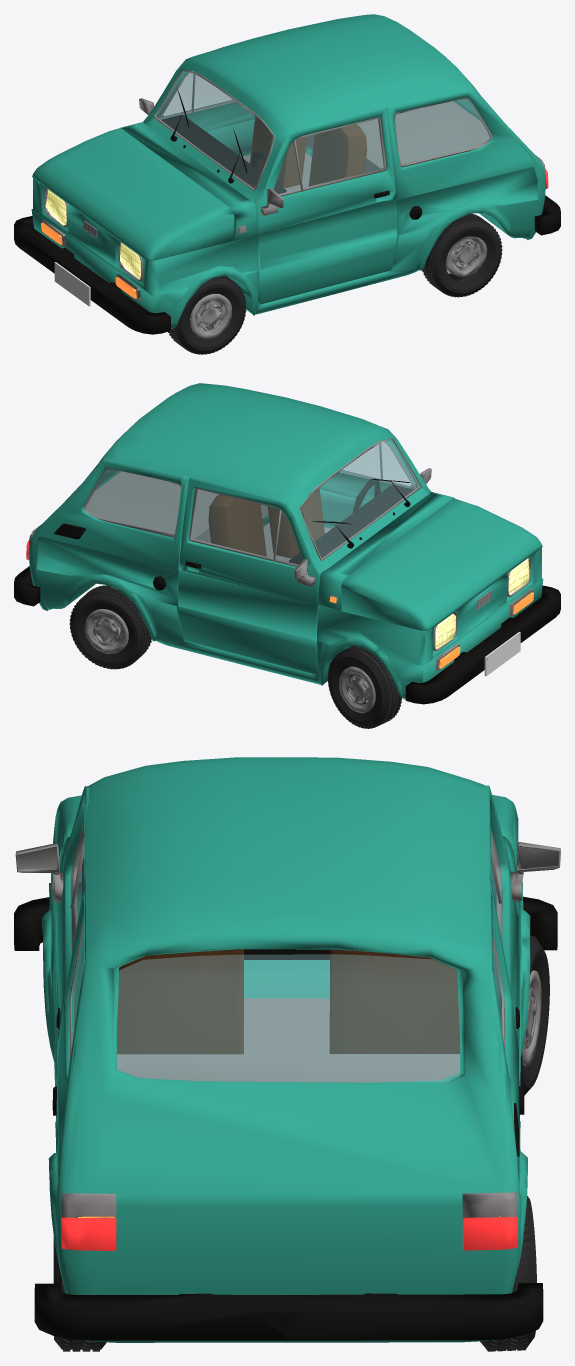
Rendered from car126p.glb.
The picture shows the model from 3 angles, top to bottom: view 1: azimuth 30°, elevation 25°; view 2: azimuth 150°, elevation 25°; view 3: azimuth 270°, elevation 25°; orthographic projection. The views are drawn at different scales.
Parts seen in each view (by area): view 1: Car Body_Car Base_0, Windows Side Front_Windows_0, Tire Front L_Material #50_0, Big Light Front L_Glass Front_0, Light front L_Orange Glass_0; view 2: Car Body_Car Base_0, Windows Side Front_Windows_0, Tire Front L_Material #50_0, Big Light Front L_Glass Front_0, Light front L_Orange Glass_0; view 3: Car Body_Car Base_0, Windows Side Front_Windows_0, Tire Front L_Material #50_0, Back Light Bottom_Red Light_0.
Boxes of the visible parts, x1,y1,x2,y2 form: Car Body_Car Base_0: [14, 14, 560, 339]; Windows Side Front_Windows_0: [156, 71, 489, 193]; Tire Front L_Material #50_0: [168, 213, 502, 354]; Big Light Front L_Glass Front_0: [45, 189, 140, 279]; Light front L_Orange Glass_0: [41, 223, 136, 298]; Car Body_Car Base_0: [14, 383, 560, 713]; Windows Side Front_Windows_0: [86, 440, 418, 564]; Tire Front L_Material #50_0: [69, 585, 401, 728]; Big Light Front L_Glass Front_0: [435, 558, 529, 648]; Light front L_Orange Glass_0: [34, 530, 534, 668]; Car Body_Car Base_0: [14, 757, 560, 1342]; Windows Side Front_Windows_0: [72, 839, 502, 1082]; Tire Front L_Material #50_0: [53, 936, 549, 1351]; Back Light Bottom_Red Light_0: [61, 1217, 517, 1250].
Size of the model in its own units: 407 by 199 by 224.
7 materials, 7 textured.
